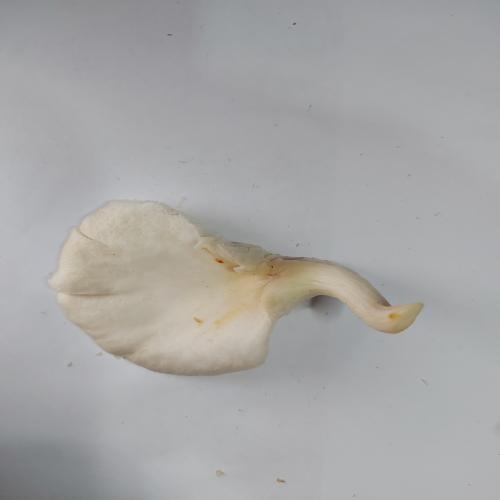Oyster Mushroom: (48, 198, 425, 377)
